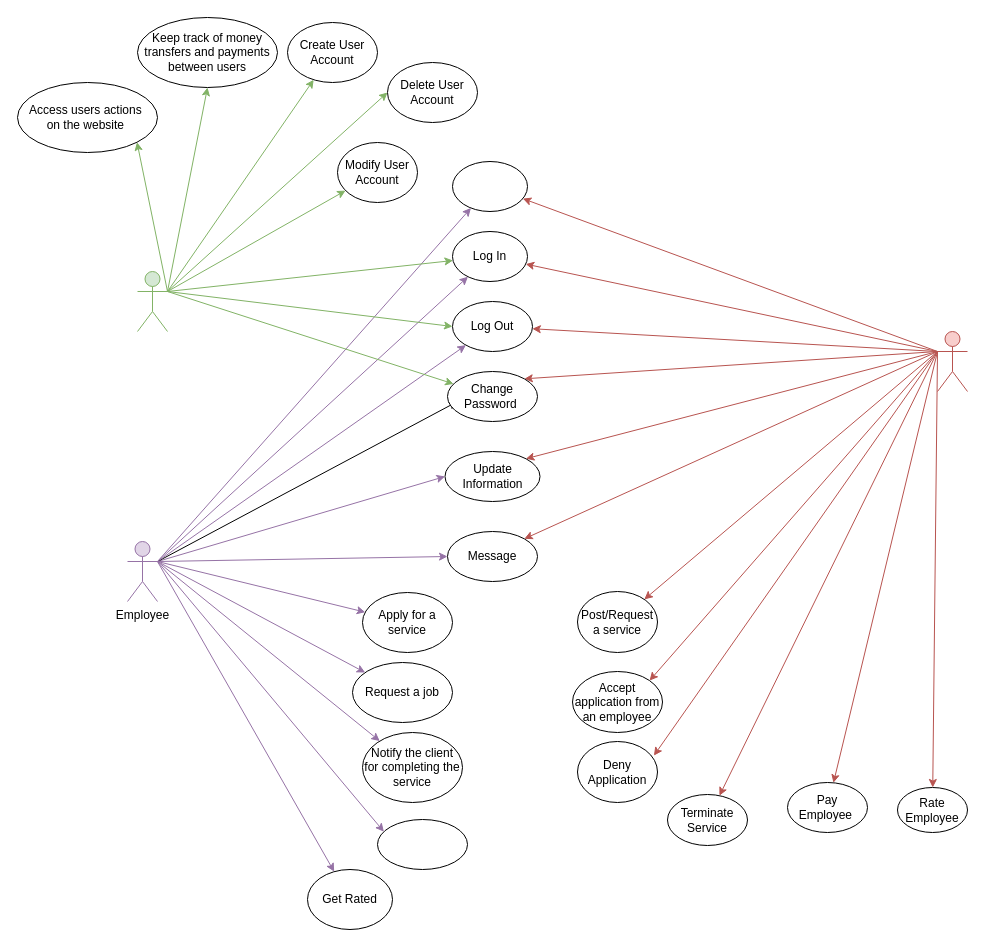
The diagram is 985 pixels wide and 947 high, and some of its shapes have lost their labels. The shapes that lost their labels are listed below. From the top down, each one's centre as x and y in pixels, then its label:
[490,186]: Register
[152,301]: Administrator
[952,361]: Client
[422,844]: Get Paid
